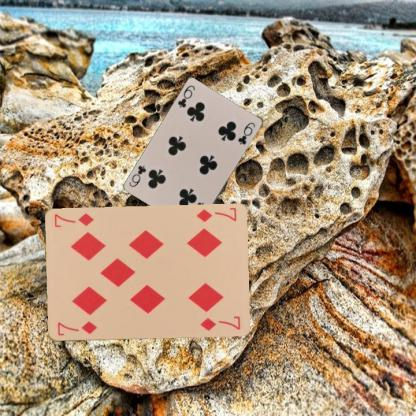6c: (175, 83, 197, 109)
7d: (194, 206, 238, 224), (55, 319, 98, 337)
